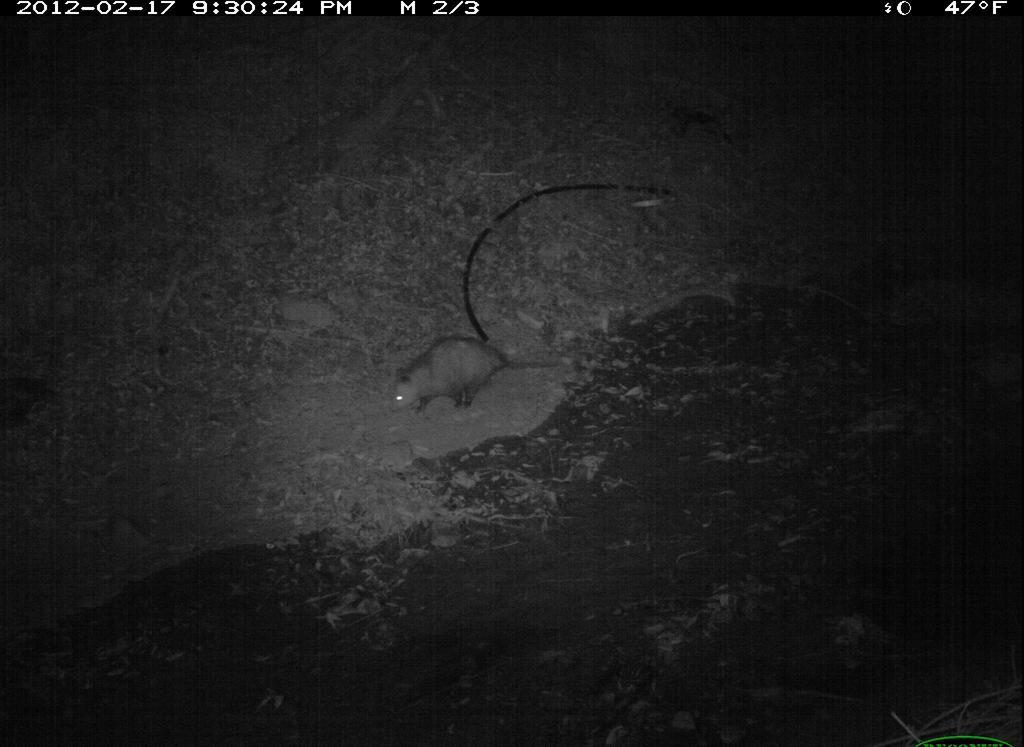opossum: (370, 327, 574, 417)
